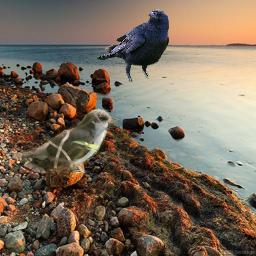Crow: (96, 9, 169, 83)
Cuckoo: (12, 108, 119, 173)
